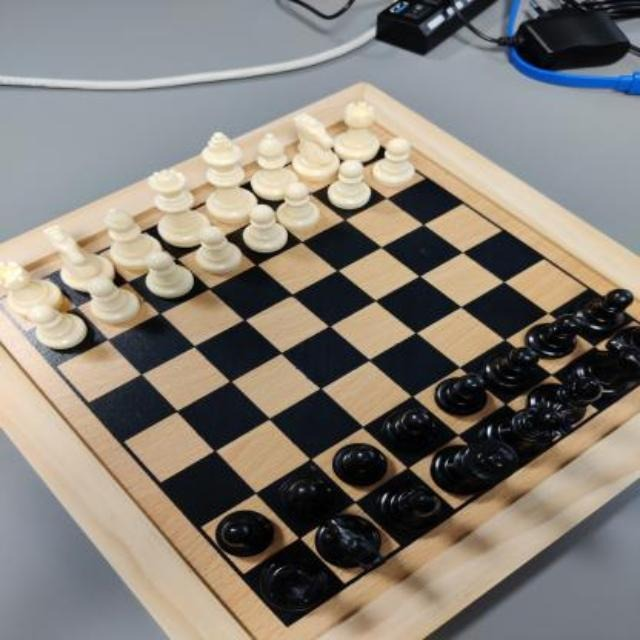black-bishop: (527, 376, 605, 422), (380, 483, 444, 527)
black-king: (431, 440, 519, 496)
black-knight: (572, 337, 638, 398), (315, 515, 385, 571)
black-pawn: (215, 509, 273, 556), (381, 406, 442, 450), (482, 346, 540, 390), (276, 474, 334, 517), (526, 314, 582, 358), (575, 289, 633, 331), (331, 443, 386, 487), (434, 374, 490, 416)
black-queen: (477, 400, 572, 461)
black-rook: (259, 556, 329, 611)
white-bishop: (104, 208, 164, 269), (250, 135, 300, 201)
white-king: (202, 132, 258, 224)
white-knight: (43, 225, 115, 291), (290, 113, 339, 180)
white-pawn: (27, 305, 87, 351), (85, 277, 140, 323), (326, 160, 375, 210), (145, 251, 194, 298), (195, 225, 242, 273), (277, 181, 323, 230), (242, 204, 288, 252), (373, 137, 417, 186)
white-queen: (149, 170, 213, 246)
white-rook: (0, 260, 63, 315), (333, 102, 380, 163)
